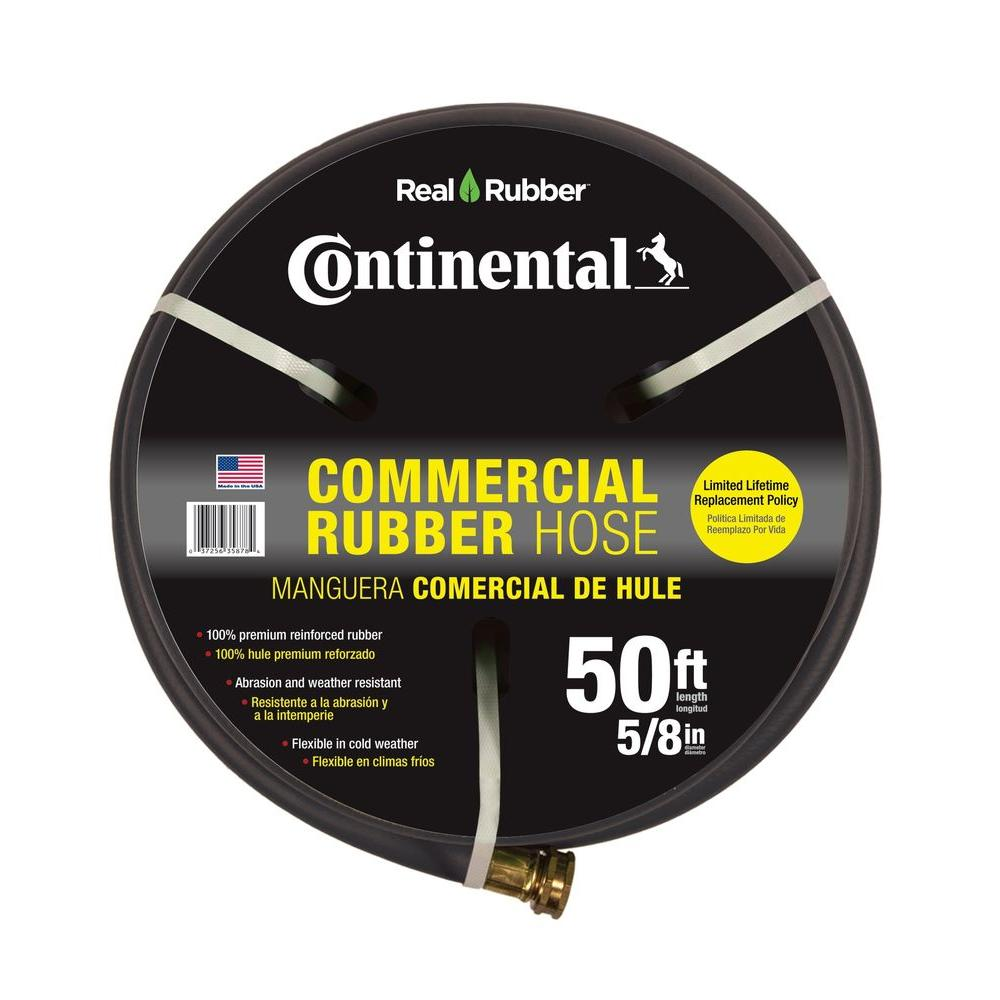Nonrec_Tangler: (73, 69, 913, 886)
